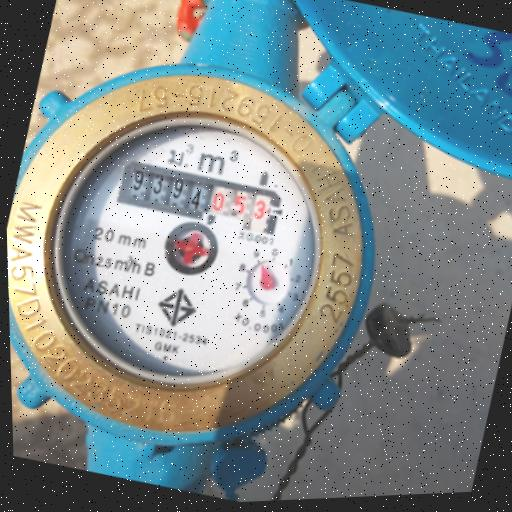0: (208, 185, 231, 217)
3: (247, 192, 273, 235), (146, 172, 168, 205)
4: (185, 181, 207, 214)
5: (228, 189, 251, 222)
9: (127, 169, 149, 202), (167, 177, 189, 210)
border_water_meter_number: (114, 153, 284, 243)
